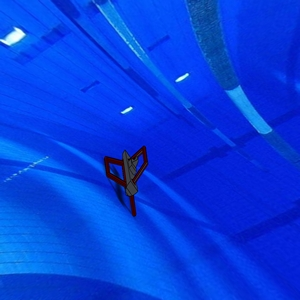submarine: (96, 134, 160, 219)
